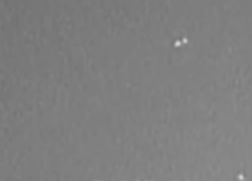Target: (175, 39, 243, 179)
